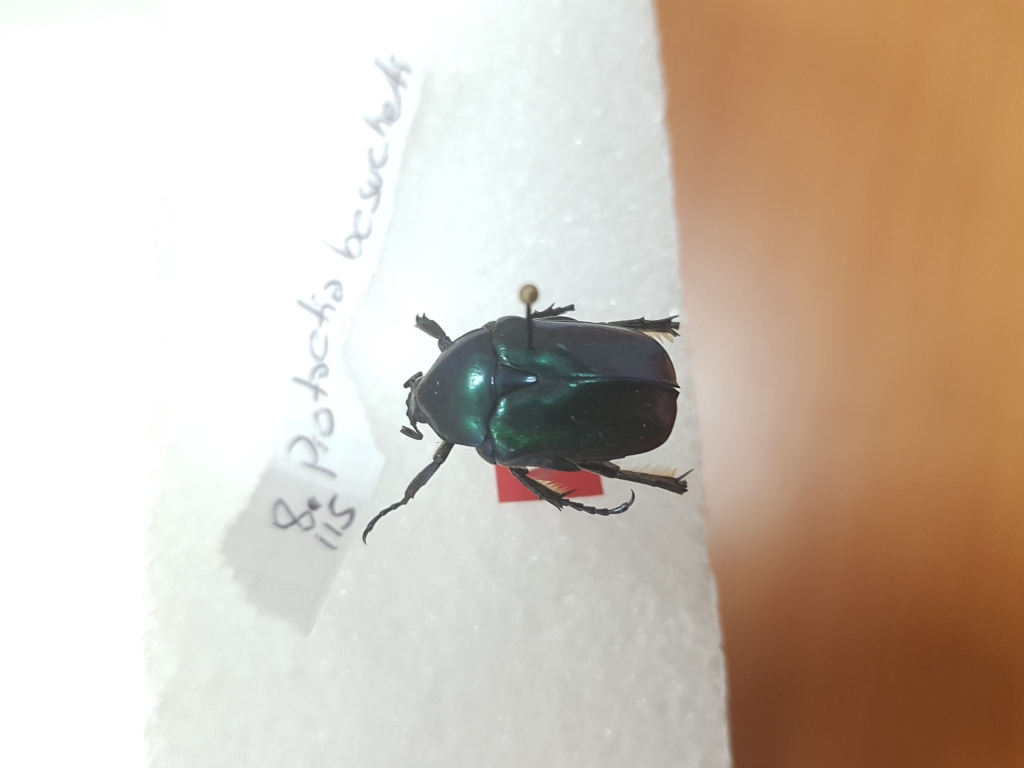Protaetia_besucheti: (336, 300, 702, 560)
